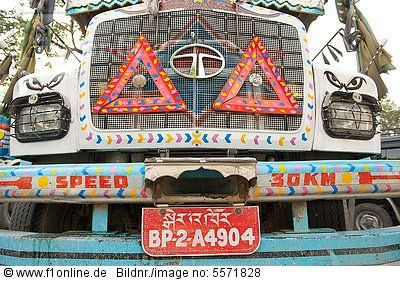number_plate: (140, 206, 260, 260)
